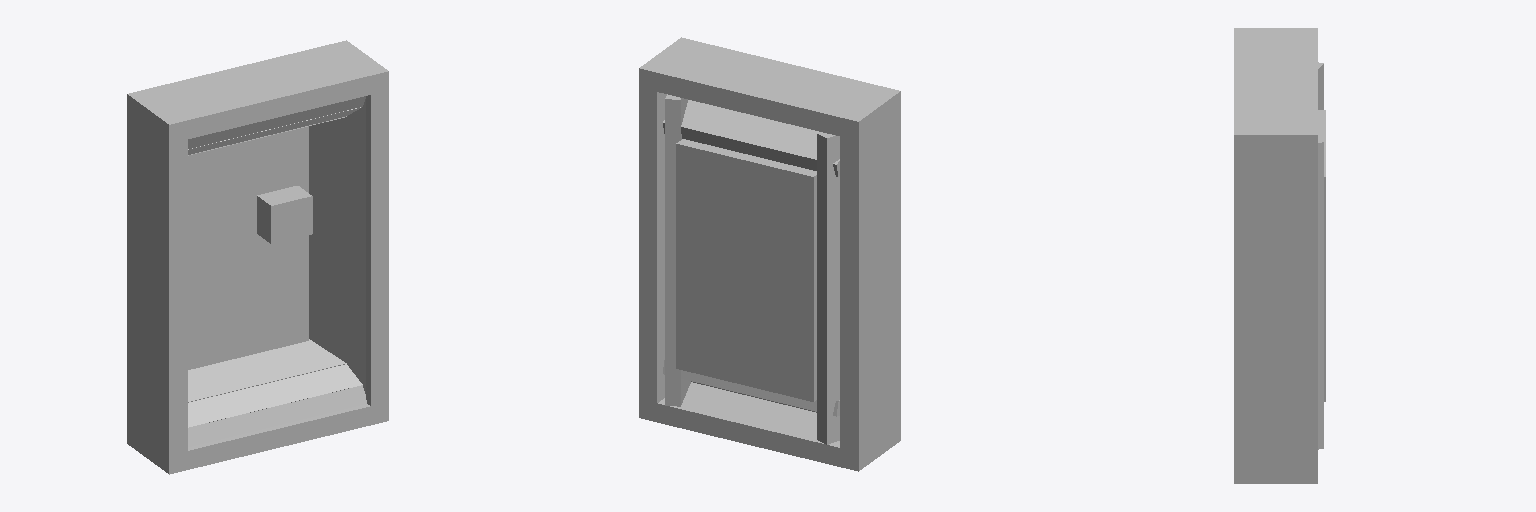
File: interiordoors.obj
The picture shows the model from 3 angles: view 1: azimuth 30°, elevation 25°; view 2: azimuth 150°, elevation 25°; view 3: azimuth 270°, elevation 25°; orthographic projection.
Visible parts, largest first — view 1: TardisDoorway1; view 2: TardisDoorway1; view 3: TardisDoorway1.
Part boxes in pixels (bbox=[...]): TardisDoorway1: bbox=[127, 40, 388, 474]; TardisDoorway1: bbox=[639, 37, 900, 471]; TardisDoorway1: bbox=[1234, 28, 1325, 483].
Bounding box in the file's own units: 6 × 9.12 × 2.19.